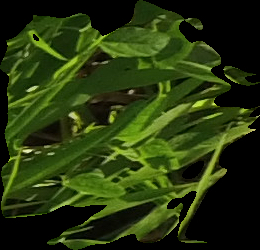grass: (1, 1, 258, 249)
